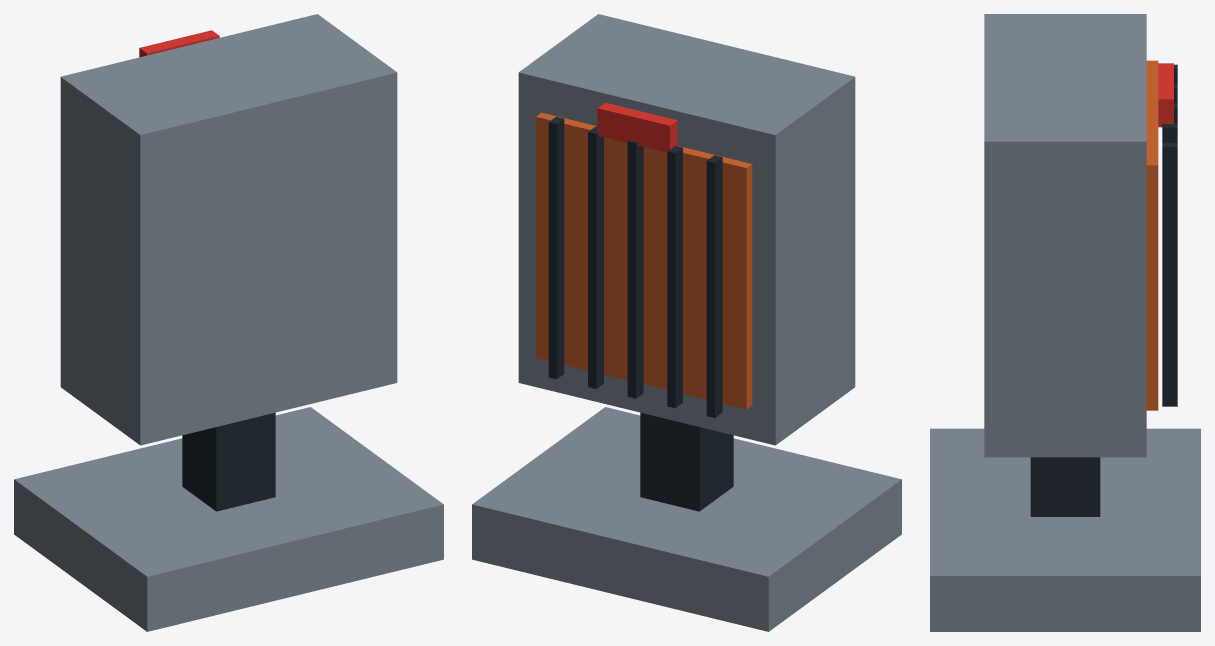
File: heater.glb
The picture shows the model from 3 angles, left to right: view 1: azimuth 30°, elevation 25°; view 2: azimuth 150°, elevation 25°; view 3: azimuth 270°, elevation 25°; orthographic projection.
Visible parts, largest first — view 1: Heater_housing, Heater_base, Heater_post, Power_indicator; view 2: Heater_housing, Heater_base, Heat_panel, Heater_post, Grille_bar, Grille_bar.004, Grille_bar.002, Grille_bar.001, Grille_bar.003, Power_indicator; view 3: Heater_housing, Heater_base, Heat_panel, Heater_post, Grille_bar.004, Power_indicator.
Part boxes in pixels (x1,y1,x2,y2): Heater_housing: (60,14,397,445); Heater_base: (14,407,443,631); Heater_post: (182,412,275,511); Power_indicator: (139,30,219,57); Heater_housing: (518,14,855,445); Heater_base: (472,407,901,631); Heat_panel: (536,112,752,409); Heater_post: (640,412,733,511); Grille_bar: (706,155,722,417); Grille_bar.004: (548,116,564,379); Grille_bar.002: (627,140,643,398); Grille_bar.001: (667,146,682,408); Grille_bar.003: (588,126,603,388); Power_indicator: (597,102,677,152); Heater_housing: (984,14,1146,457); Heater_base: (930,428,1200,631); Heat_panel: (1146,60,1158,410); Heater_post: (1030,457,1100,516); Grille_bar.004: (1162,143,1177,406); Power_indicator: (1158,63,1173,127).
Bounding box in the file's own units: 0.9 × 1.37 × 0.7.
